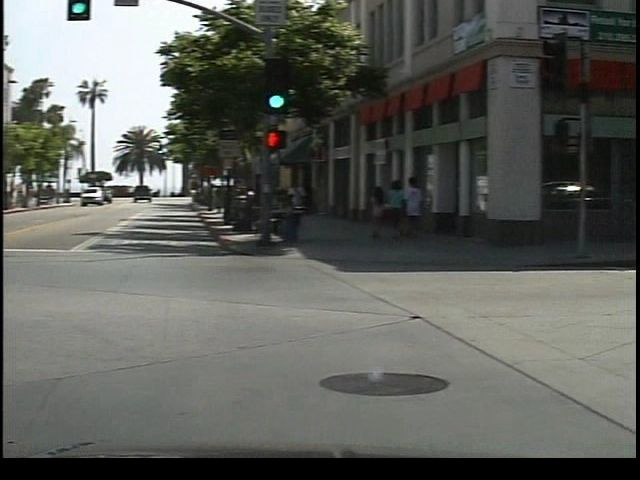person: (294, 175, 322, 234)
